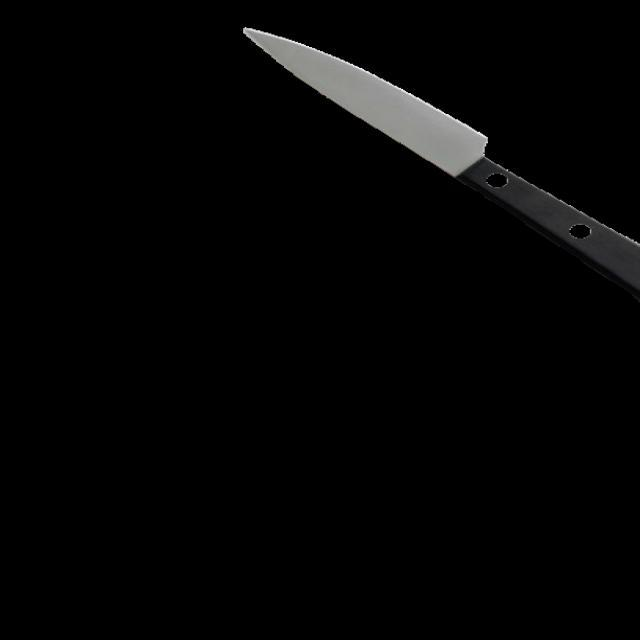knife: (253, 30, 638, 305)
